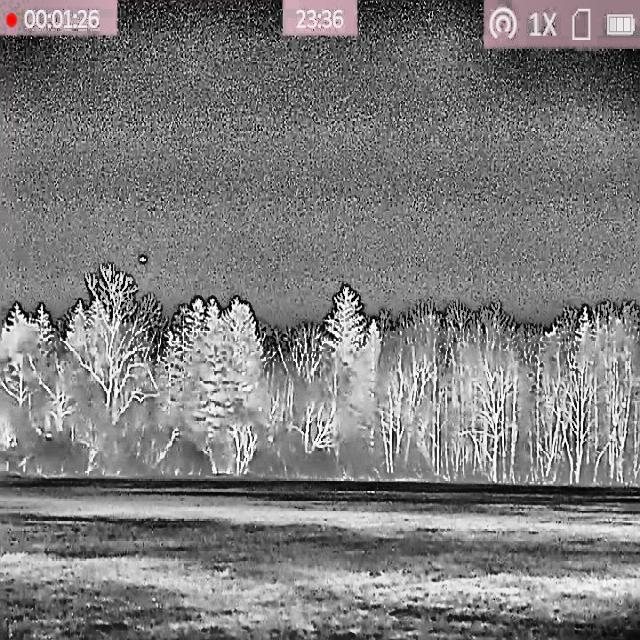drone: (137, 255, 149, 264)
